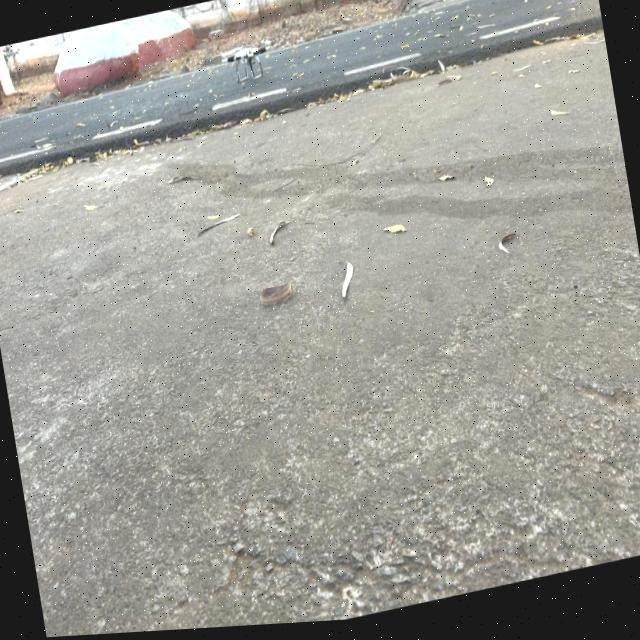drone: (212, 7, 280, 112)
